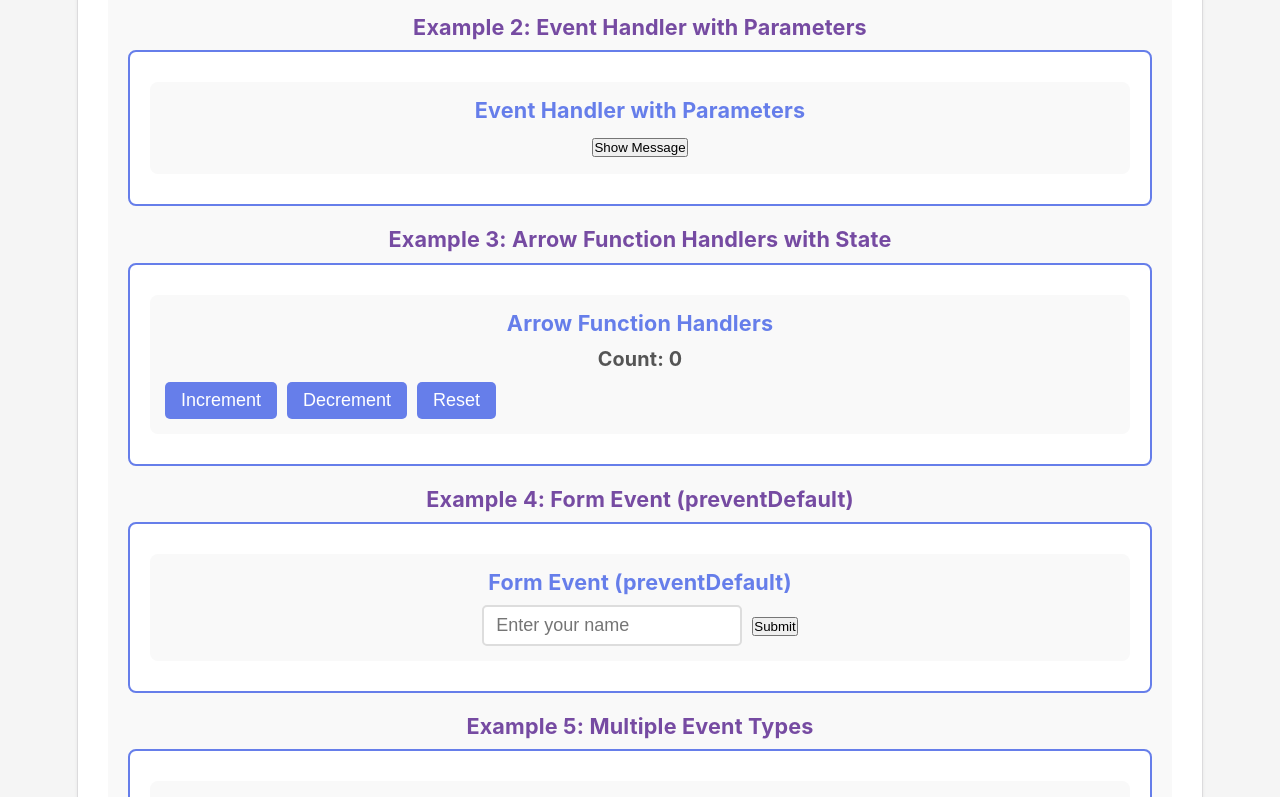
EventHandlingDemo › resets counter when reset button is clicked
This screenshot has width=1280, height=797.
(page scrolled)
// Increment a few times
Click the button "Increment". click: point(221, 400)
box: 165,382 -> 277,419
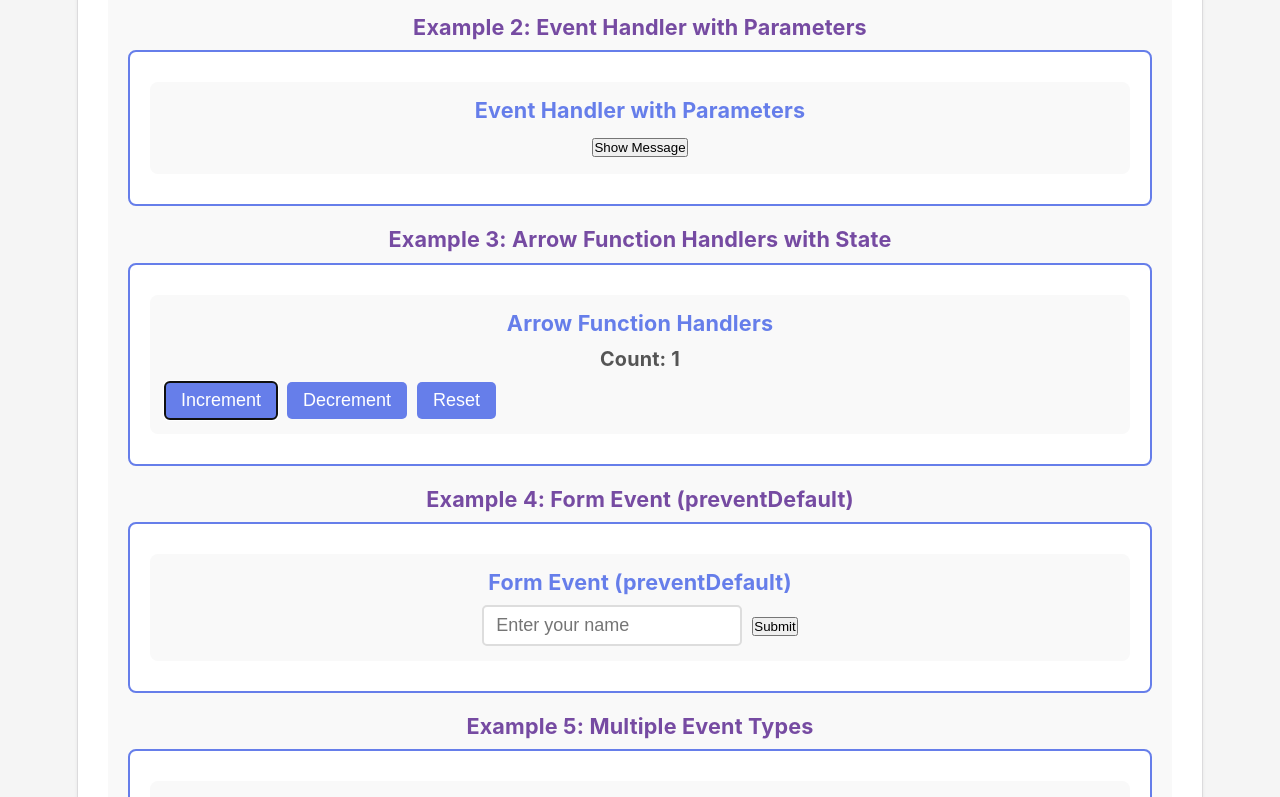
Click the button "Increment". click: point(221, 400)
box: 165,382 -> 277,419
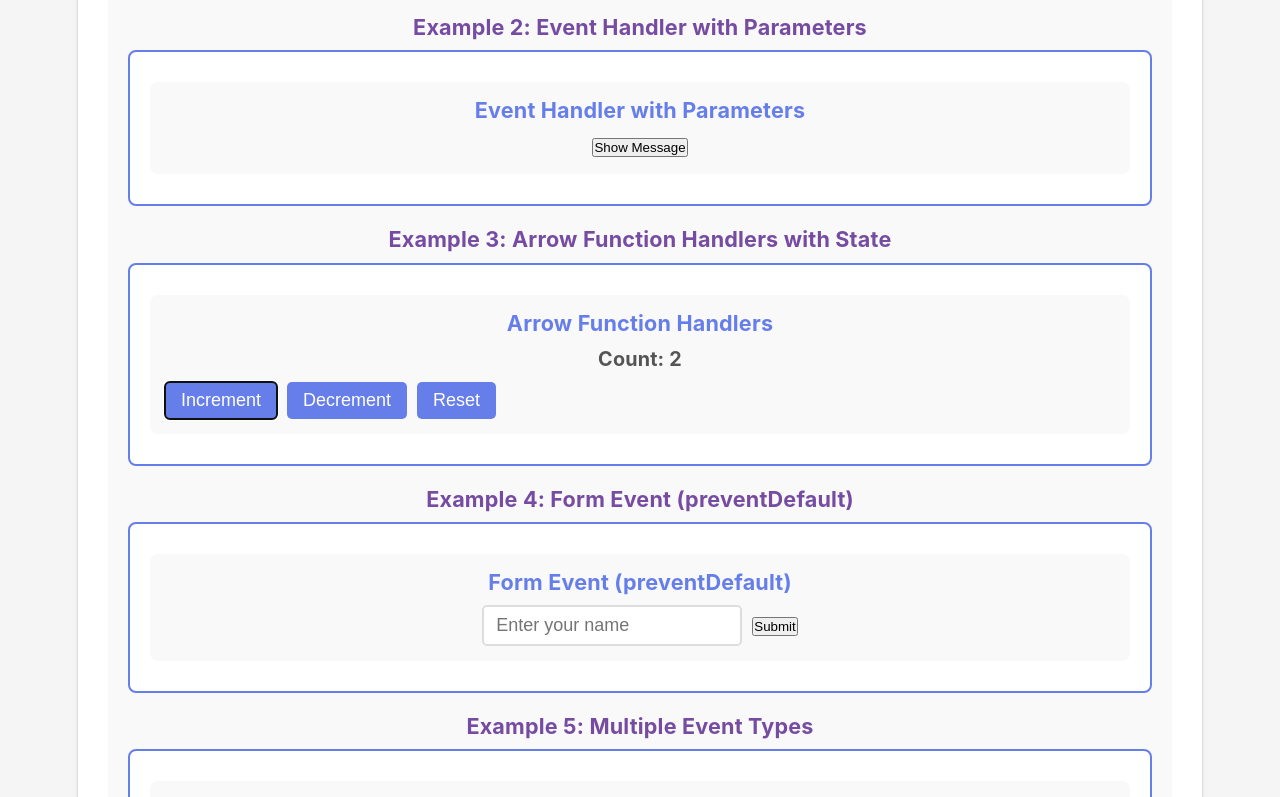
Now the text "Count: 2" is shown, box 598,347 -> 682,371
Click the button "Reset". click: point(457, 400)
box: 417,382 -> 496,419
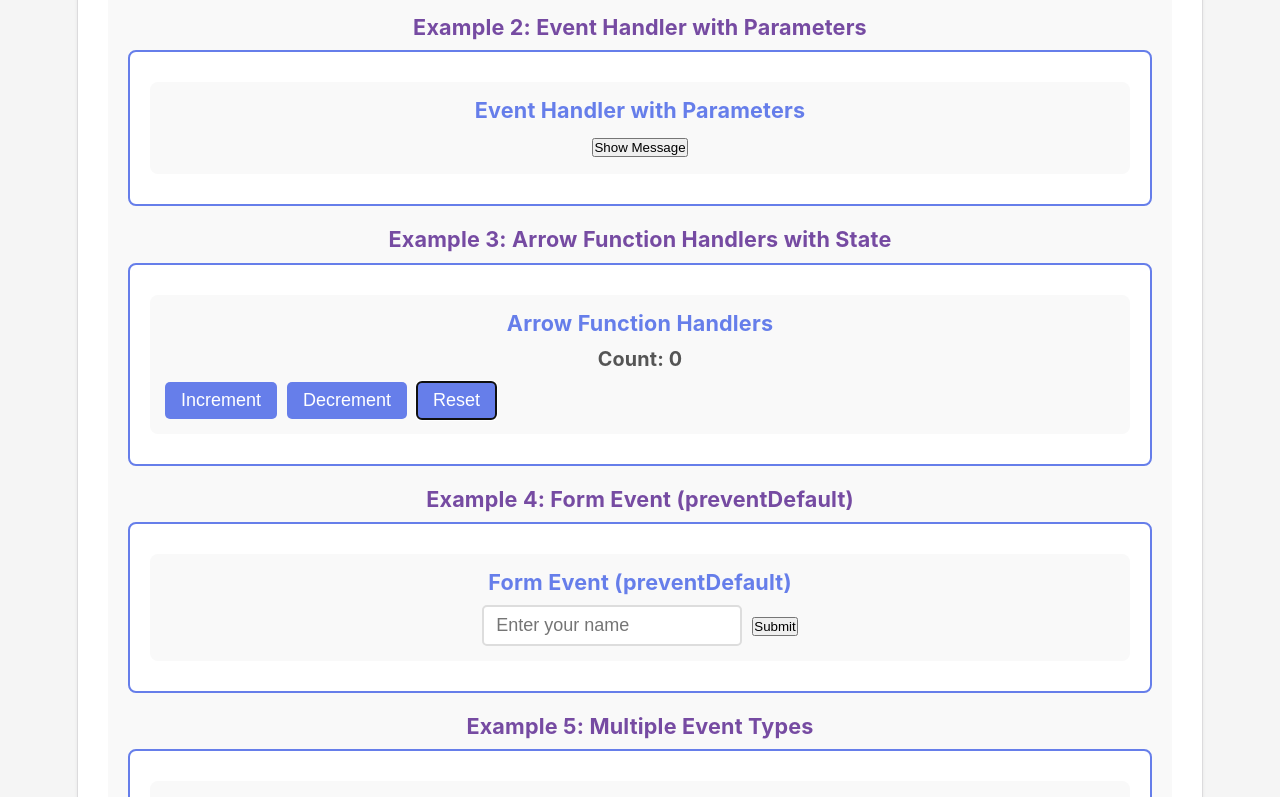
Now the text "Count: 0" is shown, box 598,347 -> 682,371
